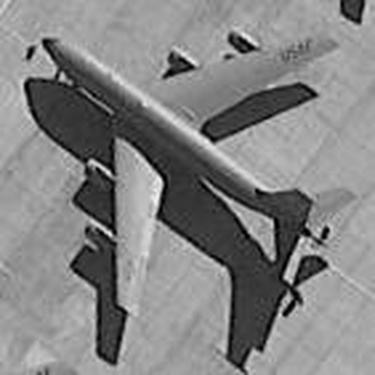airplane: (16, 12, 366, 333)
